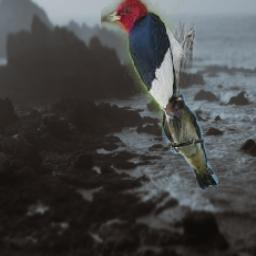Swallow: (163, 90, 219, 190)
Woodpecker: (102, 0, 196, 143)
